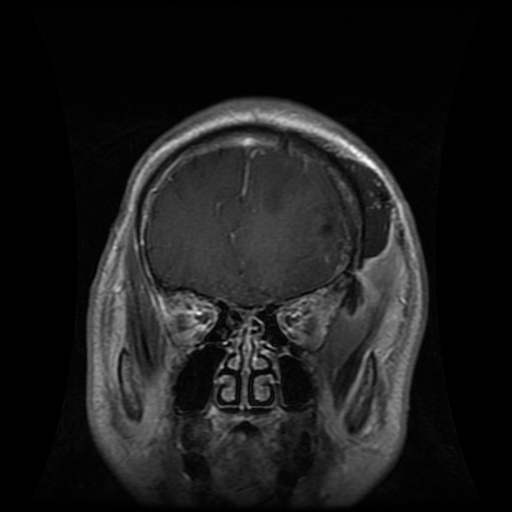glioma: (308, 204, 349, 251)
